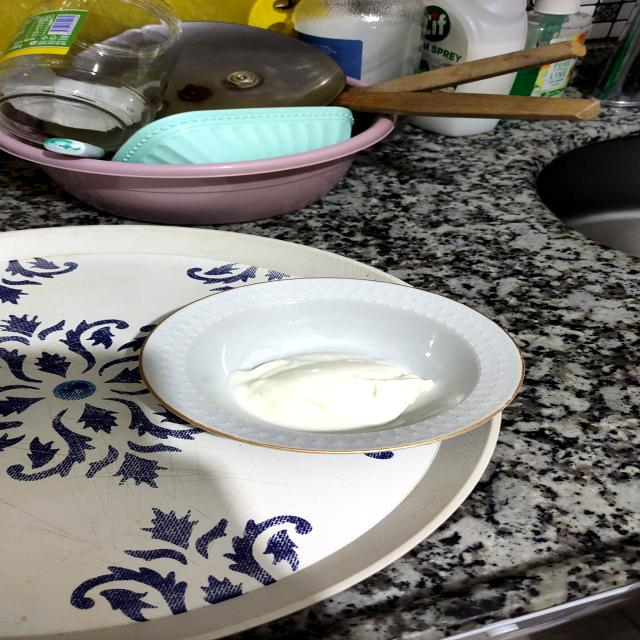yogurt: (179, 296, 502, 454)
